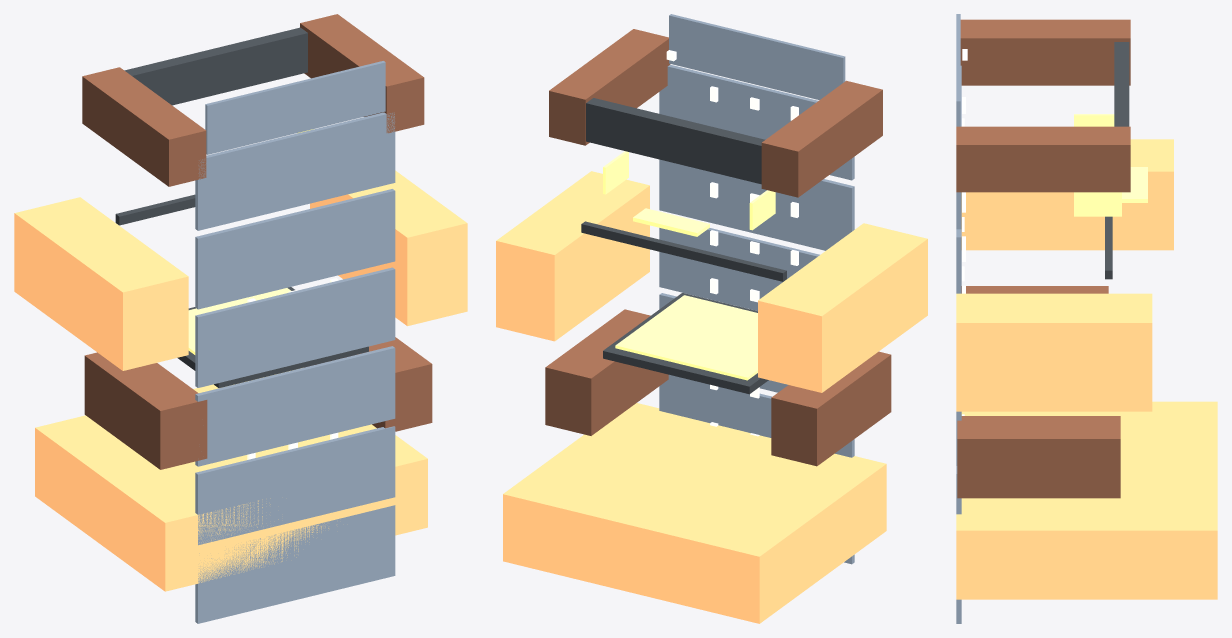
File: interact_finish_frame_canyon.glb
3 views of the same model, side by side, from view 1: azimuth 30°, elevation 25°; view 2: azimuth 150°, elevation 25°; view 3: azimuth 270°, elevation 25° (orthographic). The views are drawn at different scales.
Visible parts, largest first — view 1: interact_finish_frame_canyon; view 2: interact_finish_frame_canyon; view 3: interact_finish_frame_canyon.
Boxes of the visible parts, left/top/right/bottom form: interact_finish_frame_canyon: left=14, top=14, right=467, bottom=623; interact_finish_frame_canyon: left=496, top=14, right=927, bottom=623; interact_finish_frame_canyon: left=956, top=14, right=1217, bottom=623.
Size of the model in its own units: 18.35 by 26.25 by 12.
